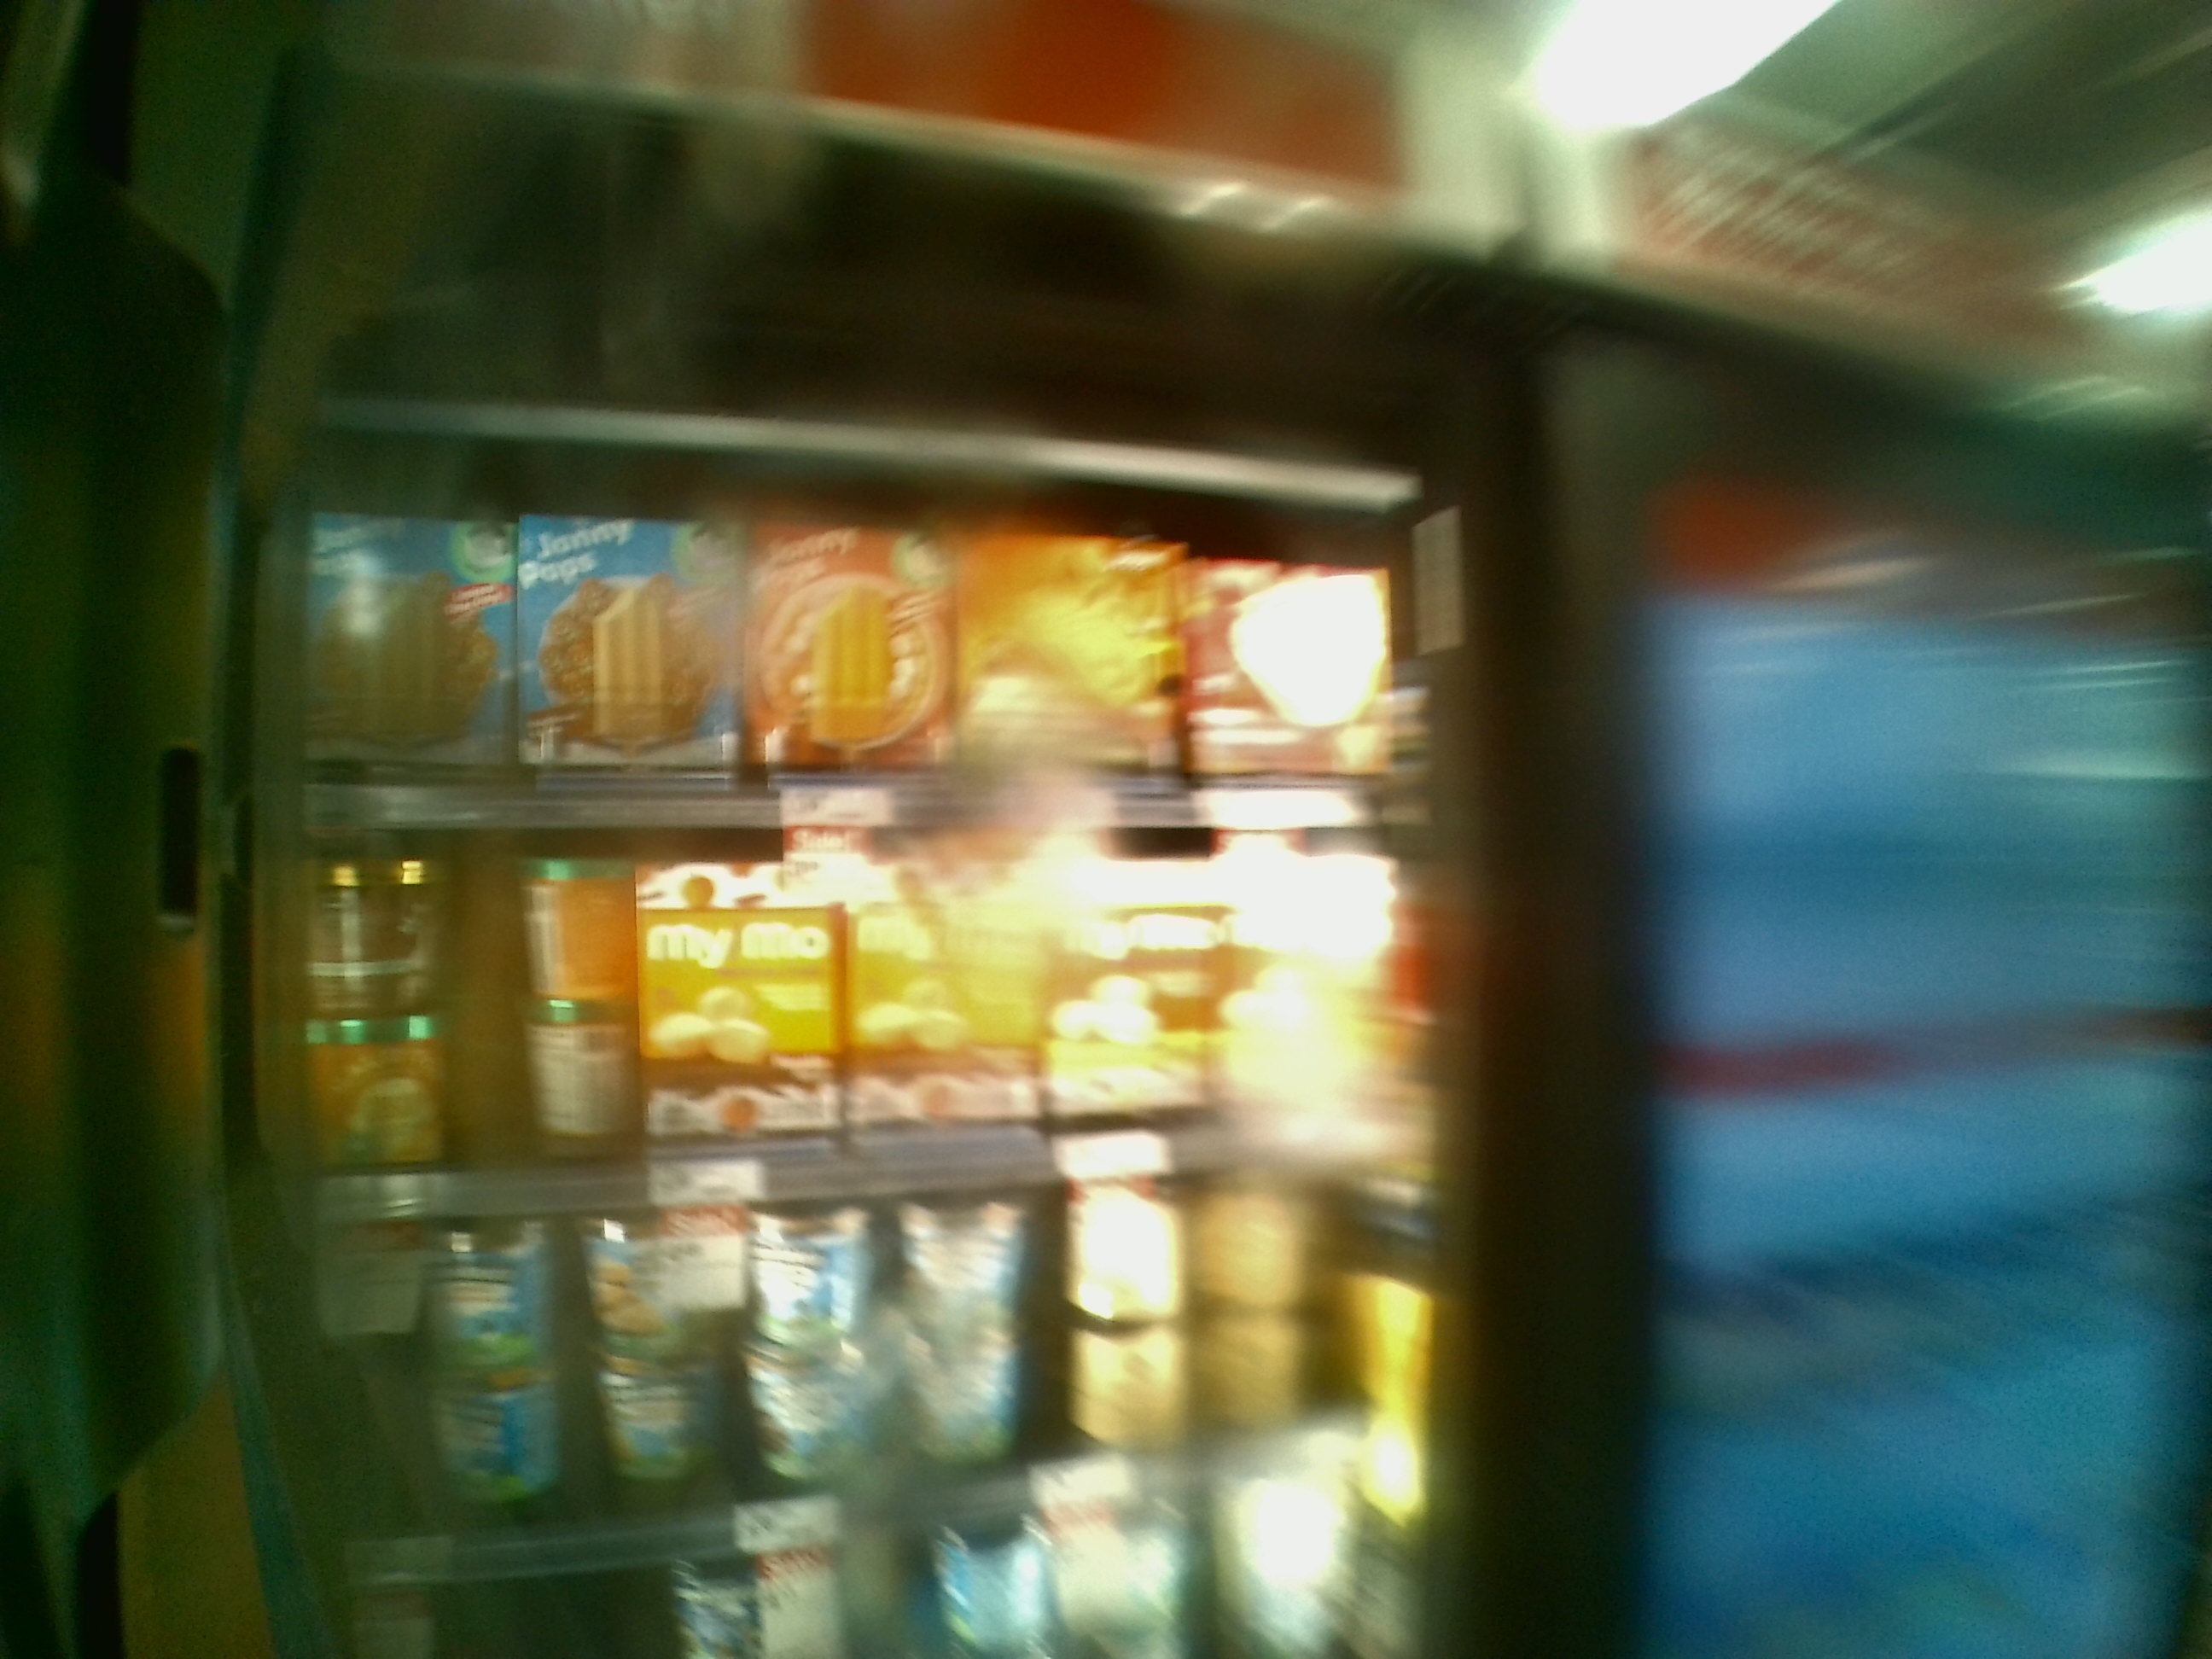shelf: (273, 448, 1407, 840), (273, 1209, 1437, 1577), (270, 829, 1428, 1190)
